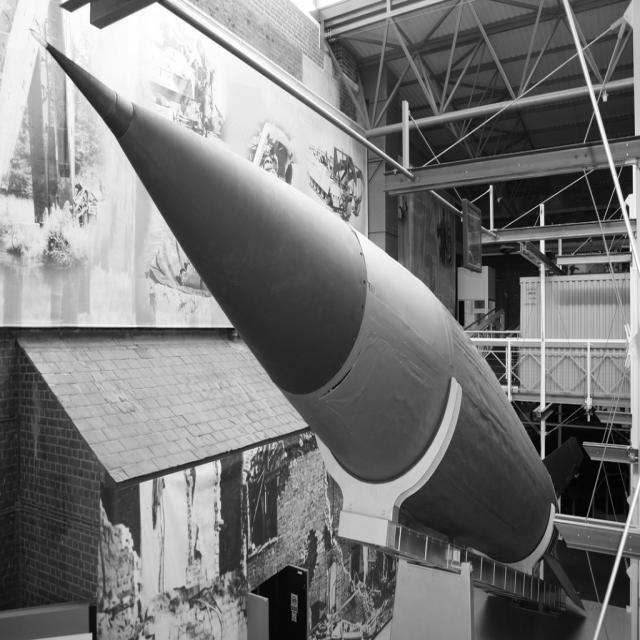missile: (16, 15, 583, 582)
